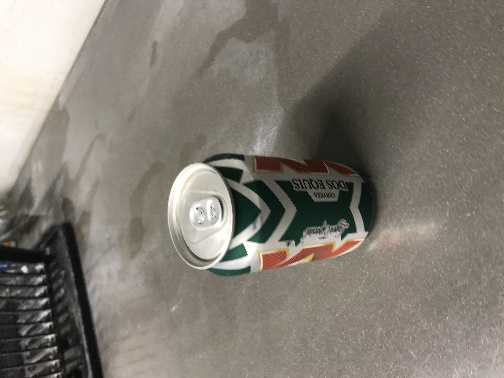DEL: (117, 110, 277, 202)
